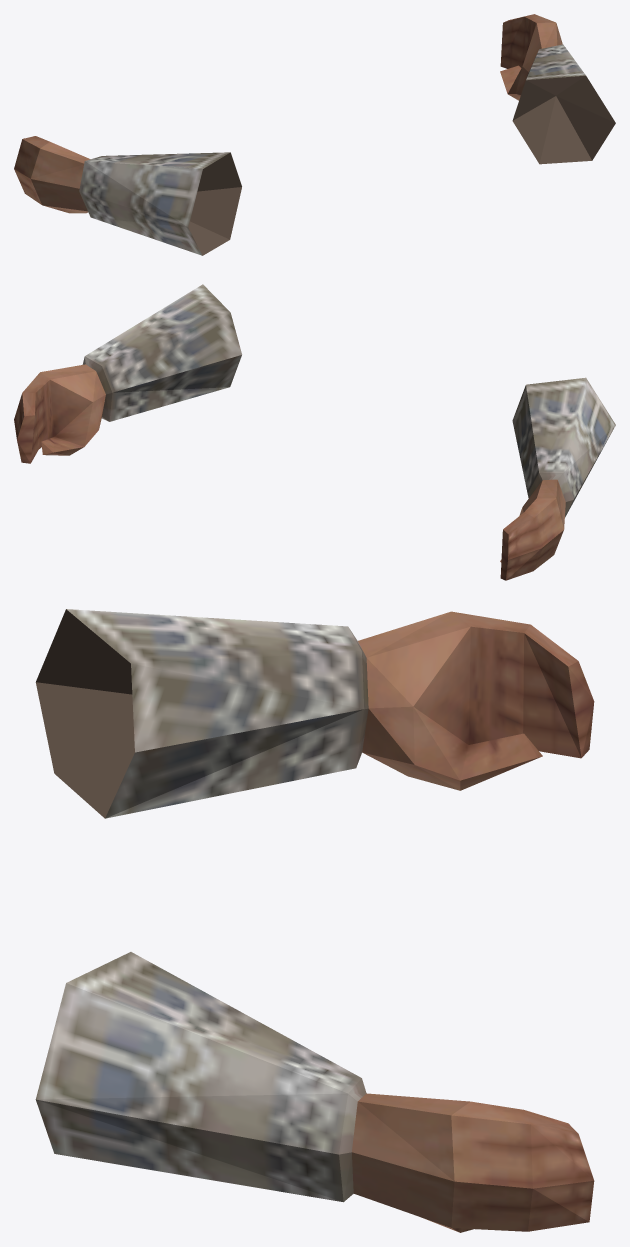
File: priest_glove_male_39041.obj
3 renders of one model, top to bottom at view 1: azimuth 30°, elevation 25°; view 2: azimuth 150°, elevation 25°; view 3: azimuth 270°, elevation 25°, orthographic. The views are drawn at different scales.
Visible parts, largest first — view 1: priest_glove_male_39041; view 2: priest_glove_male_39041; view 3: priest_glove_male_39041.
Part boxes in pixels (left/top/right/bottom): priest_glove_male_39041: left=14, top=14, right=615, bottom=255; priest_glove_male_39041: left=14, top=284, right=615, bottom=580; priest_glove_male_39041: left=35, top=609, right=594, bottom=1232.
Size of the model in its own units: 45 by 8.7 by 20.41.
1 material, 1 textured.
